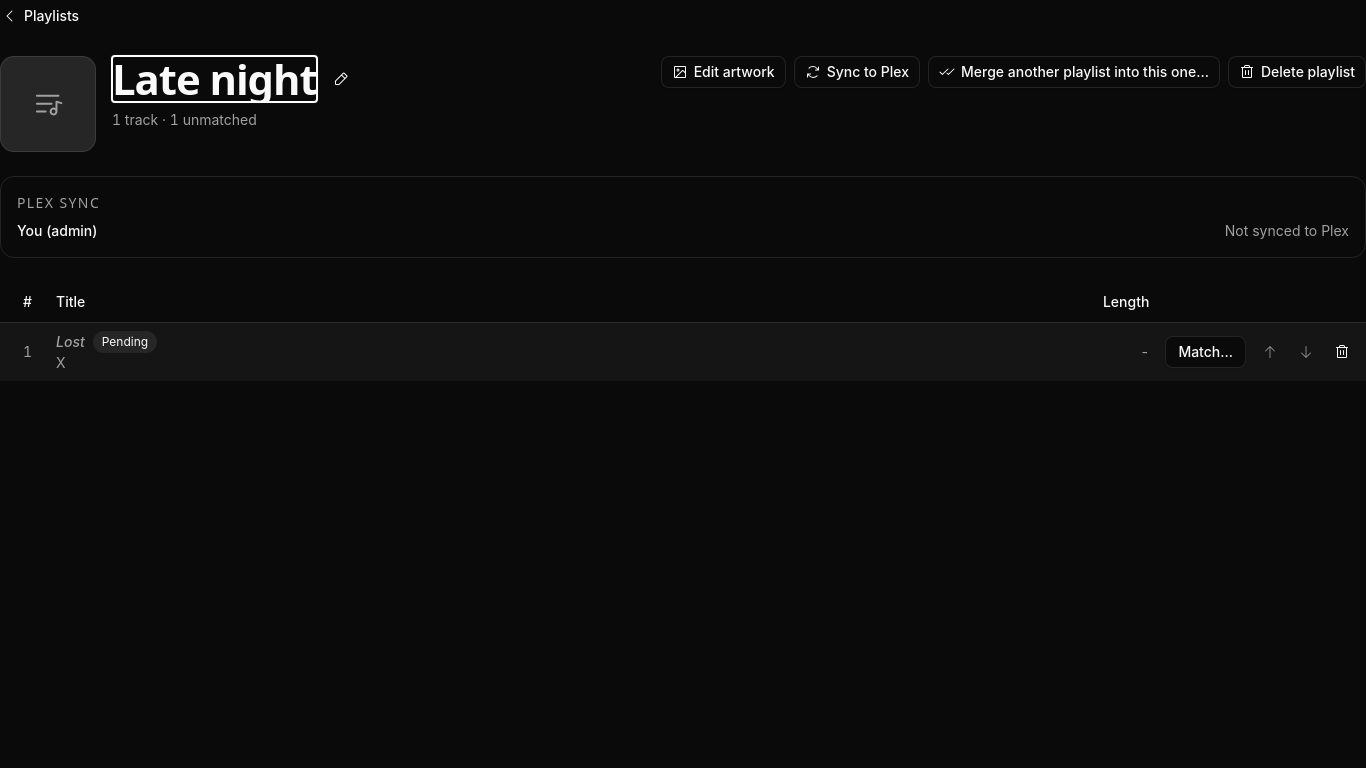
PlaylistDetailPage › resolves a pending row via the match picker
expect the text "Lost" is shown: met, box [56,332,85,352]
Click the button "Match…" at [1206, 352], box [1165,336,1246,368]
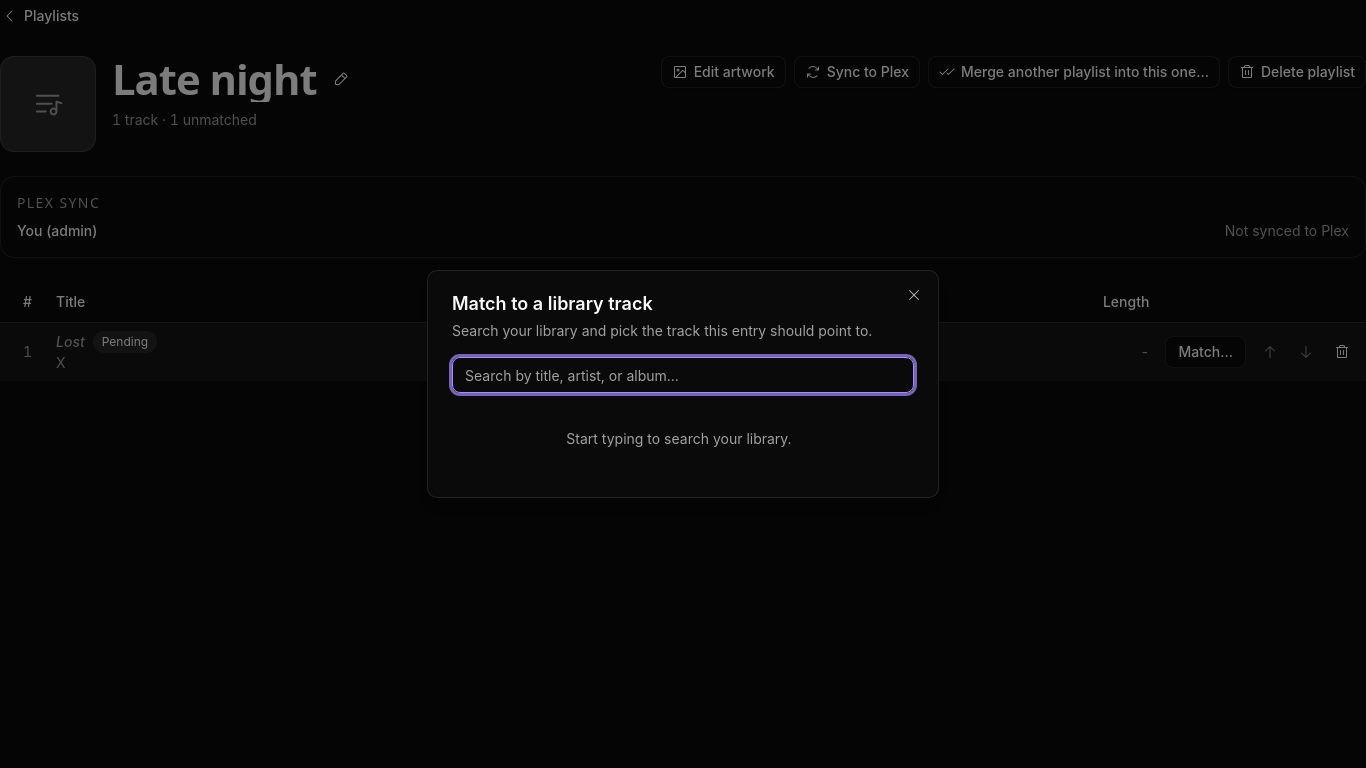
Type "Found" into the field at [683, 375], box [452,357,914,393]
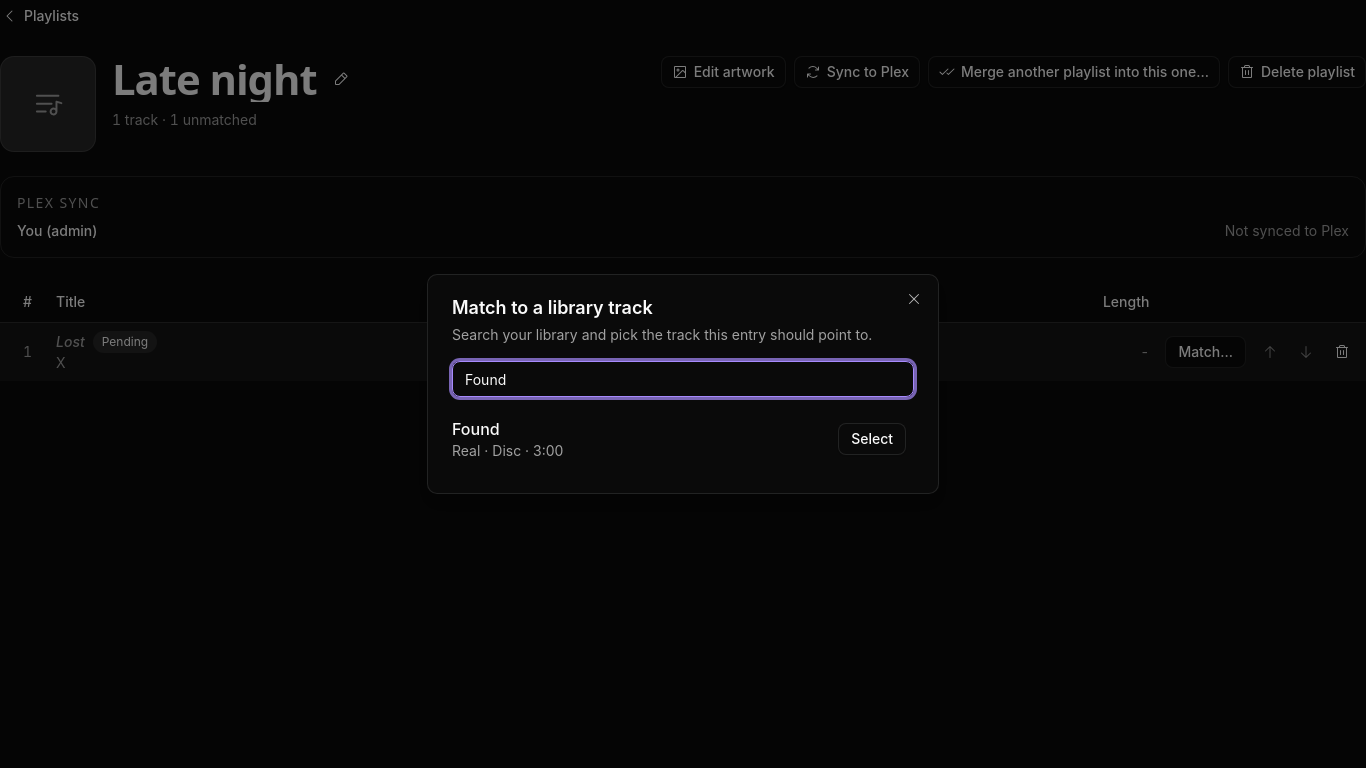
Click the button with aria-label "select found" at [872, 439], box [838,423,906,455]
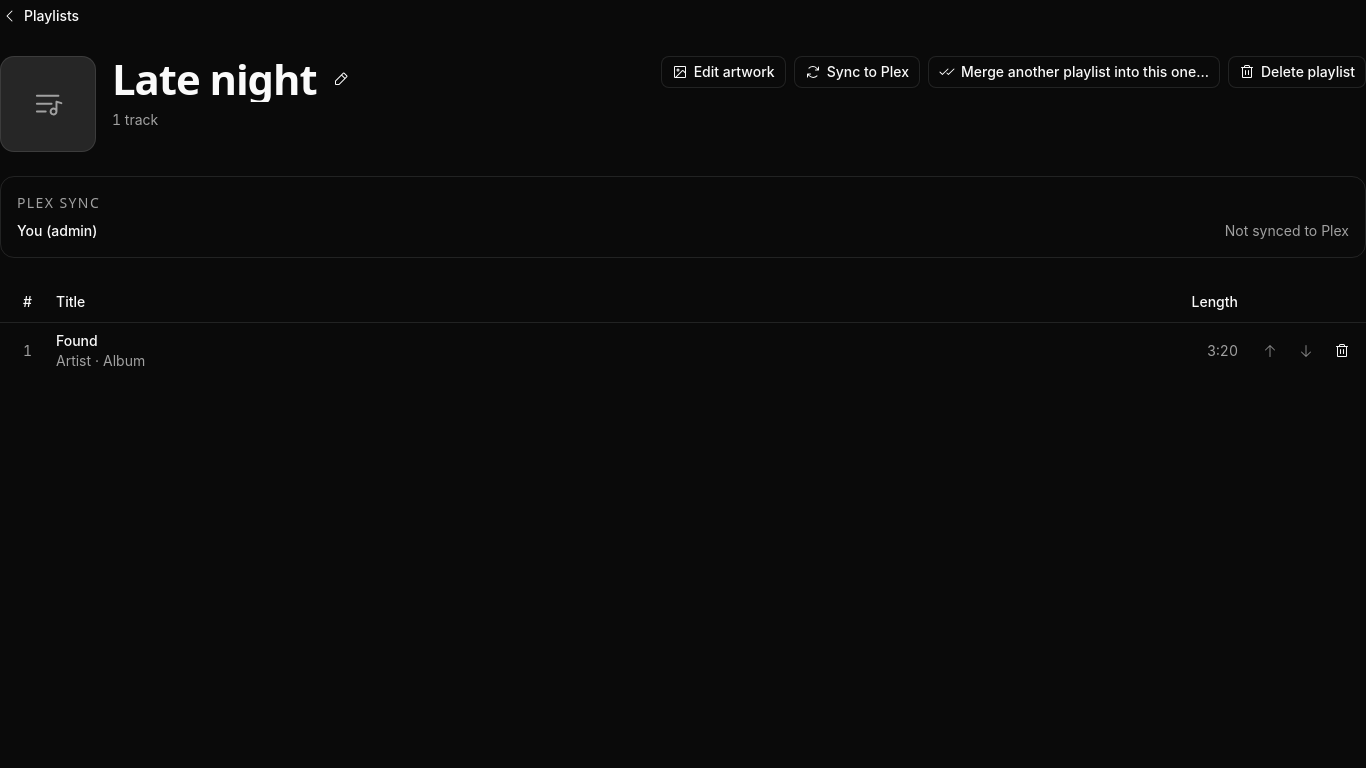
expect the text "Found" is shown: met, box [56,330,98,350]
expect the text "Lost" is gone: met
